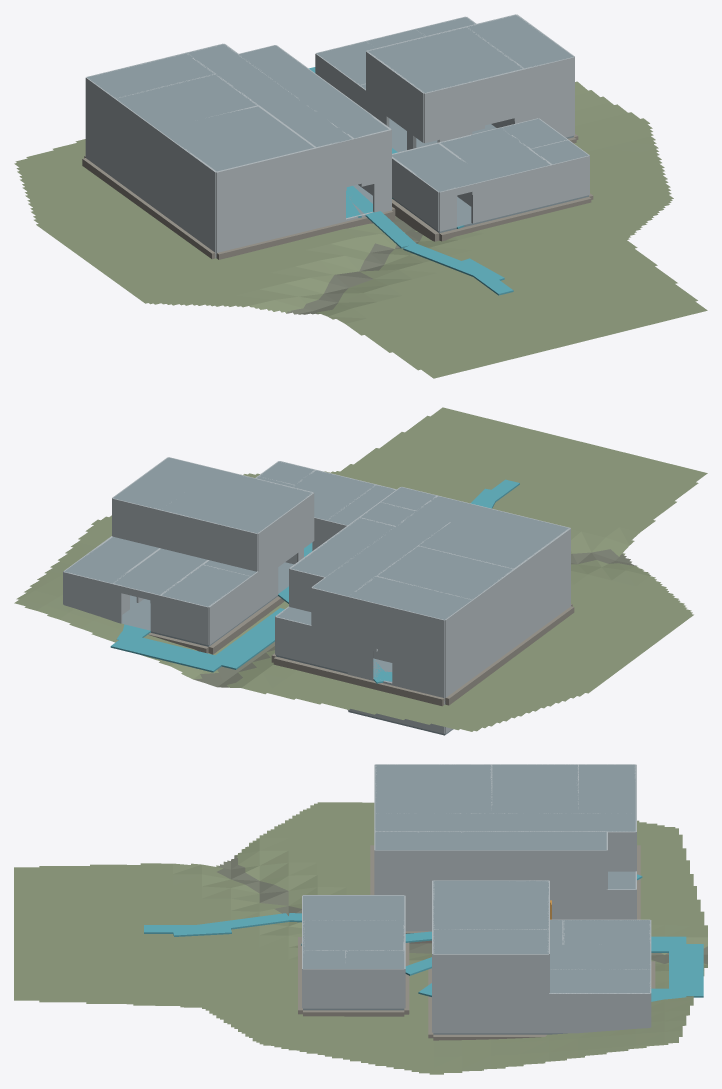
Rendered from open-circulation.glb.
3 renders of one model, top to bottom at view 1: azimuth 30°, elevation 25°; view 2: azimuth 150°, elevation 25°; view 3: azimuth 270°, elevation 25°, orthographic. The views are drawn at different scales.
Visible parts, largest first — view 1: Saved editor macroterrain FARMHOUSE, Ceiling cap hayloft, Ceiling cap parents, Ceiling cap upper-hall, Ceiling cap children, Wall parents S, Wall hayloft S, Wall parlour S, Ceiling cap repair, Ceiling cap linen, Ceiling cap loft-landing, Ceiling cap upper-stair (+31 smaller); view 2: Saved editor macroterrain FARMHOUSE, Ceiling cap hayloft, Ceiling cap parents, Ceiling cap upper-hall, Ceiling cap children, Wall hayloft N, Wall linen N, Wall cleaner N, Ceiling cap loft-landing, Ceiling cap linen, Ceiling cap upper-stair, Wall hayloft W (+30 smaller); view 3: Saved editor macroterrain FARMHOUSE, Ceiling cap parents, Ceiling cap hayloft, Wall upper-stair E, Ceiling cap upper-hall, Wall loft-stair E, Wall loft-landing E, Ceiling cap children, Wall equipment E, Ceiling cap repair, Ceiling cap linen, Ceiling cap loft-landing (+22 smaller).
Boxes of the visible parts, left/top/right/bottom form: Saved editor macroterrain FARMHOUSE: left=14, top=81, right=707, bottom=378; Ceiling cap hayloft: left=367, top=27, right=522, bottom=92; Ceiling cap parents: left=159, top=106, right=314, bottom=171; Ceiling cap upper-hall: left=187, top=44, right=351, bottom=146; Ceiling cap children: left=116, top=74, right=256, bottom=129; Wall parents S: left=216, top=147, right=316, bottom=211; Wall hayloft S: left=424, top=68, right=524, bottom=132; Wall parlour S: left=216, top=187, right=316, bottom=250; Ceiling cap repair: left=440, top=128, right=549, bottom=179; Ceiling cap linen: left=87, top=53, right=214, bottom=98; Ceiling cap loft-landing: left=467, top=15, right=573, bottom=68; Ceiling cap upper-stair: left=239, top=45, right=346, bottom=106; Saved editor macroterrain FARMHOUSE: left=14, top=407, right=707, bottom=731; Ceiling cap hayloft: left=161, top=469, right=312, bottom=533; Ceiling cap parents: left=419, top=505, right=569, bottom=568; Ceiling cap upper-hall: left=313, top=496, right=473, bottom=596; Ceiling cap children: left=376, top=546, right=513, bottom=599; Wall hayloft N: left=160, top=510, right=257, bottom=571; Wall linen N: left=347, top=596, right=444, bottom=657; Wall cleaner N: left=275, top=616, right=347, bottom=672; Ceiling cap loft-landing: left=113, top=457, right=216, bottom=509; Ceiling cap linen: left=348, top=576, right=471, bottom=619; Ceiling cap upper-stair: left=290, top=517, right=395, bottom=577; Wall hayloft W: left=257, top=493, right=314, bottom=571; Saved editor macroterrain FARMHOUSE: left=14, top=802, right=707, bottom=1074; Ceiling cap parents: left=375, top=764, right=490, bottom=813; Ceiling cap hayloft: left=433, top=880, right=548, bottom=929; Wall upper-stair E: left=462, top=850, right=606, bottom=889; Ceiling cap upper-hall: left=375, top=813, right=635, bottom=831; Wall loft-stair E: left=433, top=994, right=548, bottom=1033; Wall loft-landing E: left=433, top=954, right=548, bottom=993; Ceiling cap children: left=491, top=764, right=577, bottom=813; Wall equipment E: left=549, top=993, right=650, bottom=1033; Ceiling cap repair: left=303, top=920, right=404, bottom=950; Ceiling cap linen: left=578, top=764, right=635, bottom=813; Ceiling cap loft-landing: left=433, top=929, right=548, bottom=953.
Bounding box in the file's own units: 45 × 9.16 × 48.
